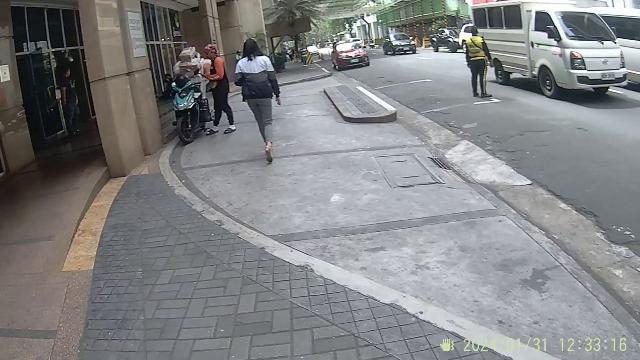car: (469, 0, 629, 102), (331, 36, 371, 72), (381, 28, 419, 60)
